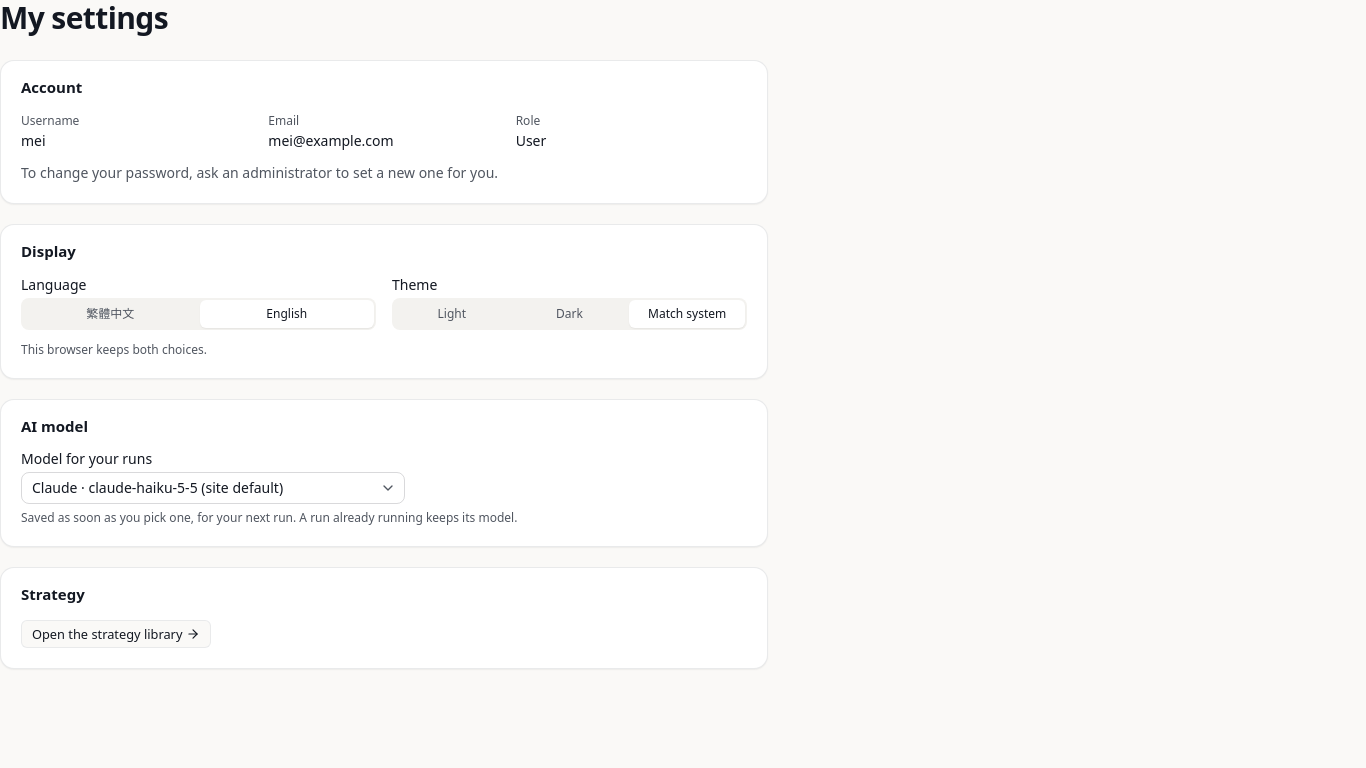
it: My settings › changes the language and the theme where the user’s other settings are
The image size is (1366, 768).
Click the radio button labelled "Dark" at point(570, 314), box top-left (512, 300), bottom-right (627, 328)
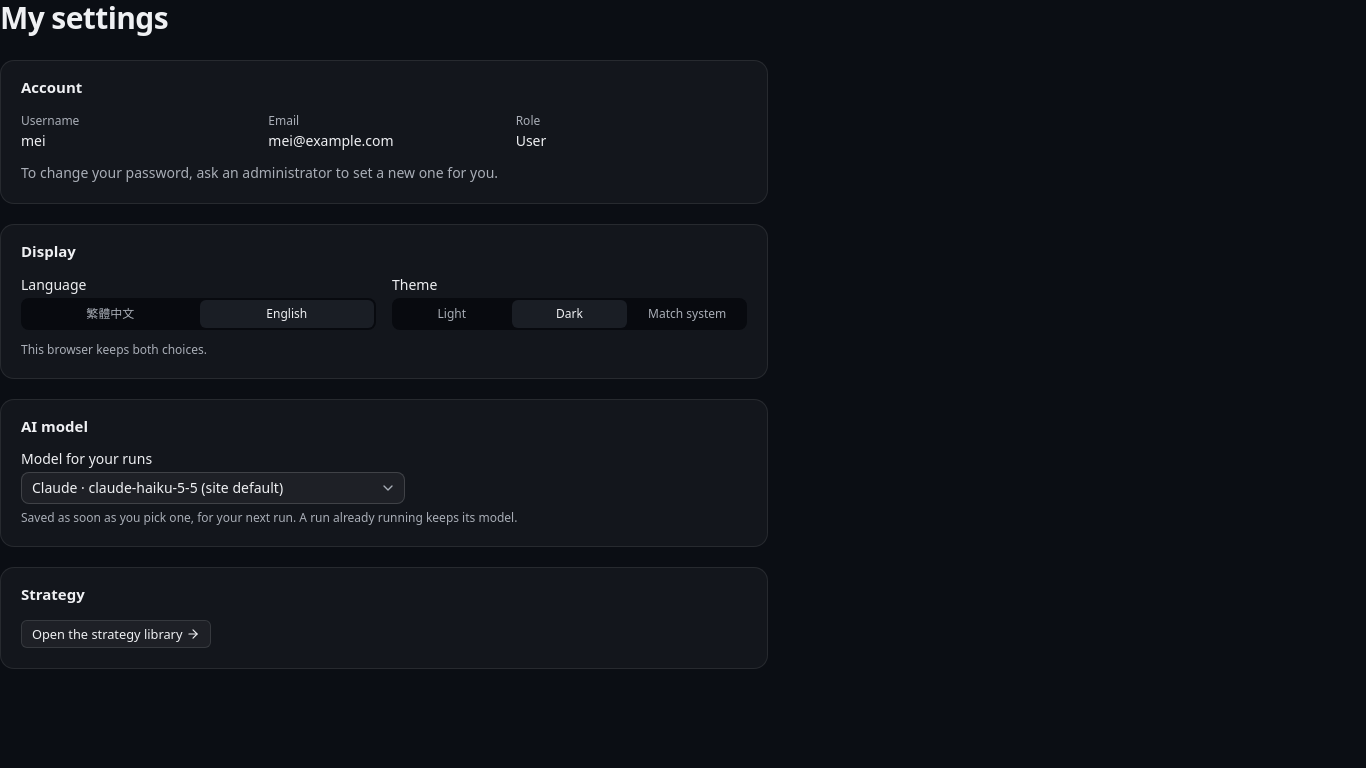
Click the radio button labelled "繁體中文" at point(110, 314), box top-left (23, 300), bottom-right (198, 328)
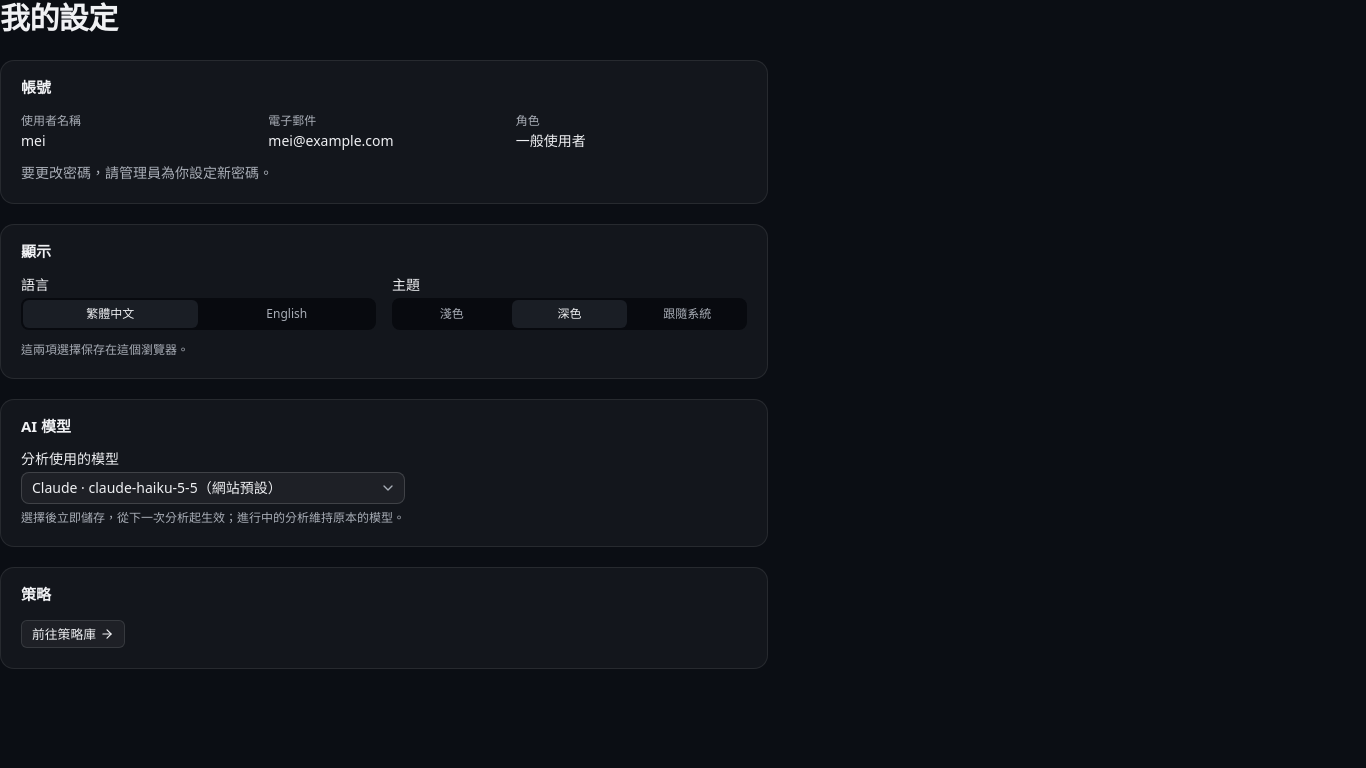
Expected: the heading "我的設定" is shown, top-left (0, 0), bottom-right (118, 36)
Click the radio button labelled "English" at point(287, 314), box top-left (200, 300), bottom-right (374, 328)
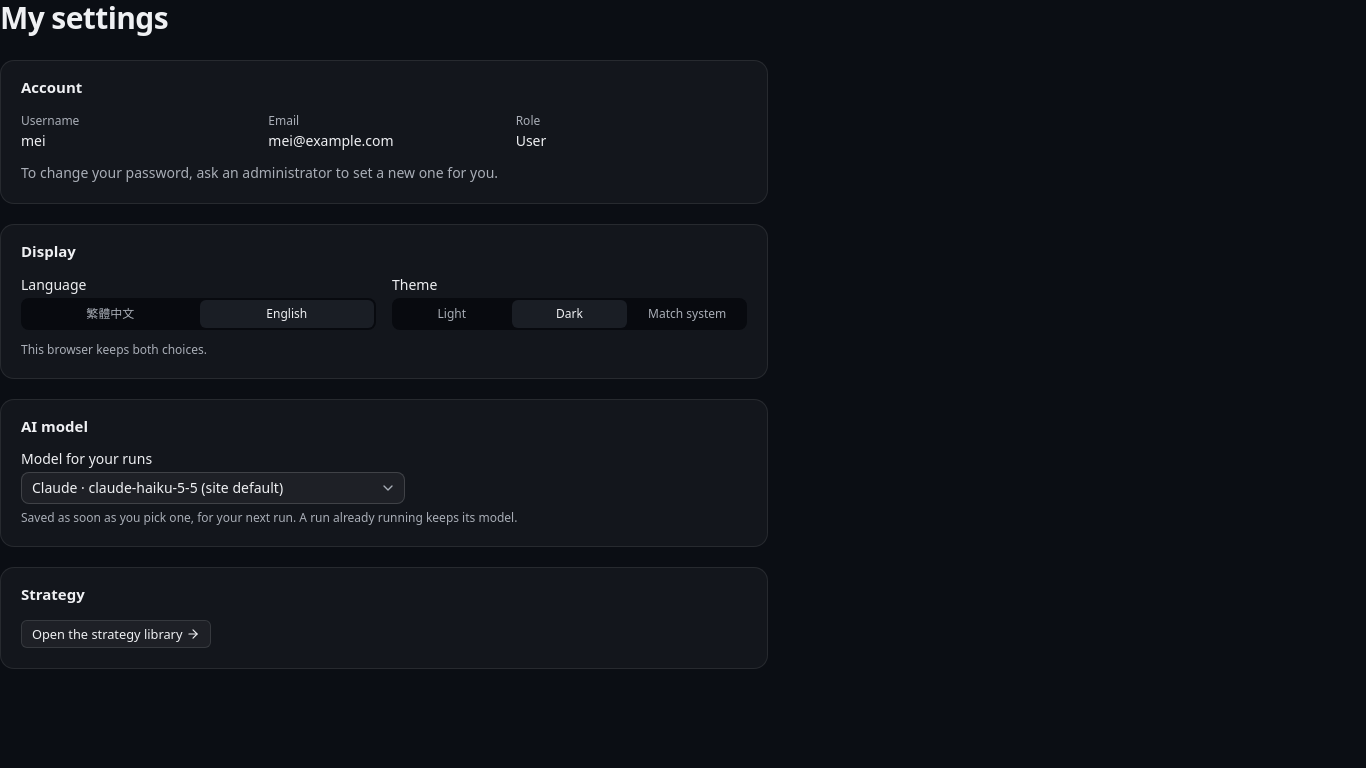
Expected: the heading "My settings" is shown, top-left (0, 0), bottom-right (168, 36)
